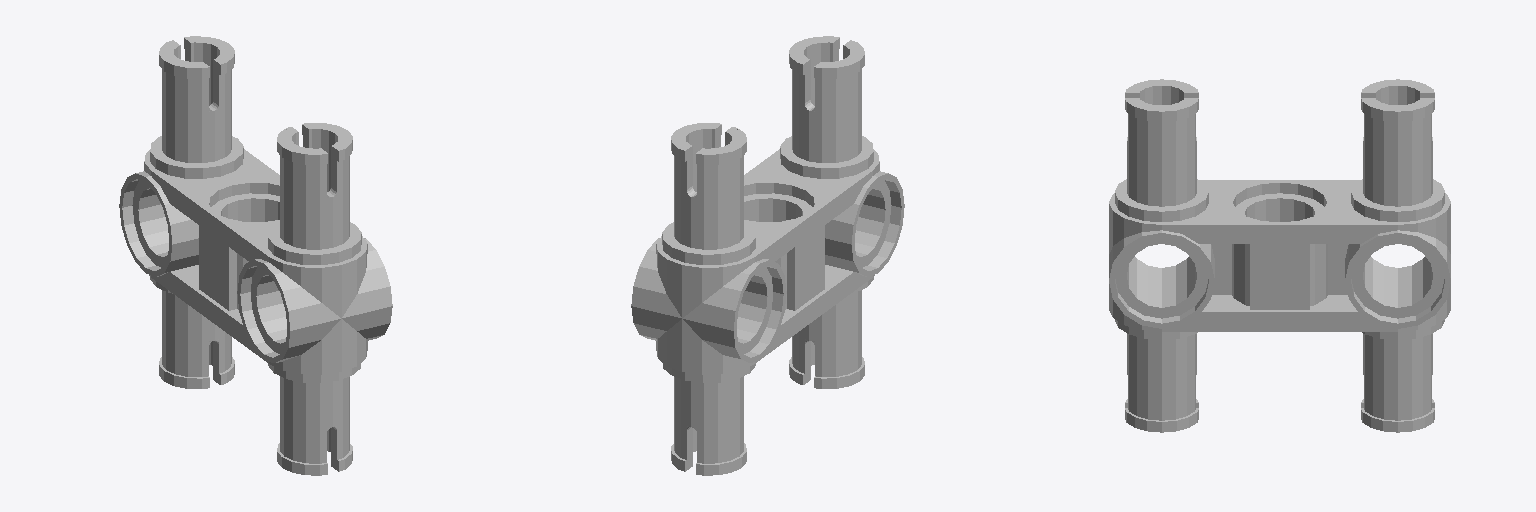
The model's file is Piece005.obj.
3 views of the same model, side by side, from view 1: azimuth 30°, elevation 25°; view 2: azimuth 150°, elevation 25°; view 3: azimuth 270°, elevation 25° (orthographic).
Visible parts, largest first — view 1: Piece000; view 2: Piece000; view 3: Piece000.
Part boxes in pixels (bbox=[...]): Piece000: bbox=[119, 36, 392, 475]; Piece000: bbox=[631, 36, 904, 475]; Piece000: bbox=[1109, 79, 1450, 432].
Bounding box in the file's own units: 20 × 60 × 58.